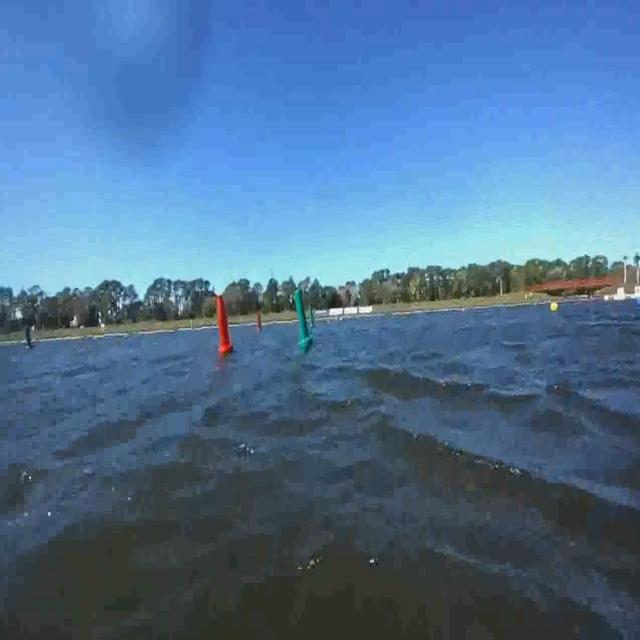green-column-buoy: (293, 290, 313, 348)
red-column-buoy: (215, 296, 232, 352)
